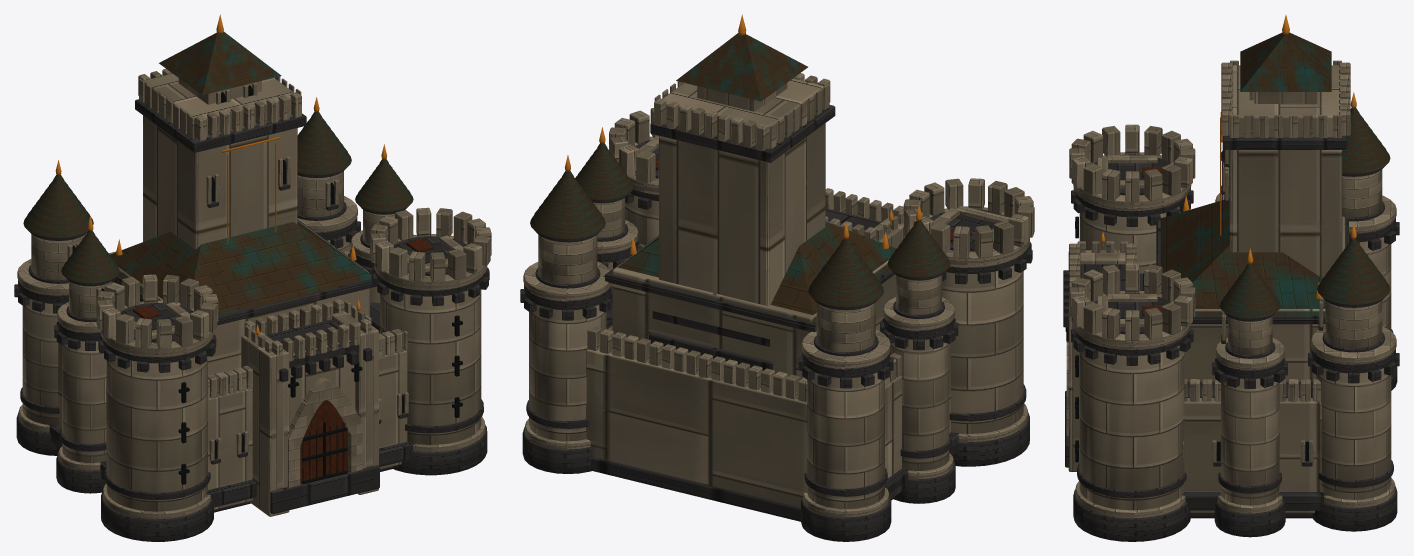
The model's file is hegemony-main-castle-balanced.glb.
3 renders of one model, left to right at view 1: azimuth 30°, elevation 25°; view 2: azimuth 150°, elevation 25°; view 3: azimuth 270°, elevation 25°, orthographic. The views are drawn at different scales.
Visible parts, largest first — view 1: WK_Hegemony_Hero_Castle_LOD1_Balanced; view 2: WK_Hegemony_Hero_Castle_LOD1_Balanced; view 3: WK_Hegemony_Hero_Castle_LOD1_Balanced.
Boxes of the visible parts, box(x1,y1,x2,y2) form: WK_Hegemony_Hero_Castle_LOD1_Balanced: box(14, 14, 491, 541); WK_Hegemony_Hero_Castle_LOD1_Balanced: box(520, 14, 1034, 541); WK_Hegemony_Hero_Castle_LOD1_Balanced: box(1063, 15, 1399, 541).
Size of the model in its own units: 13.34 by 14.06 by 9.88.
Materials: 1 (1 with a texture image).
